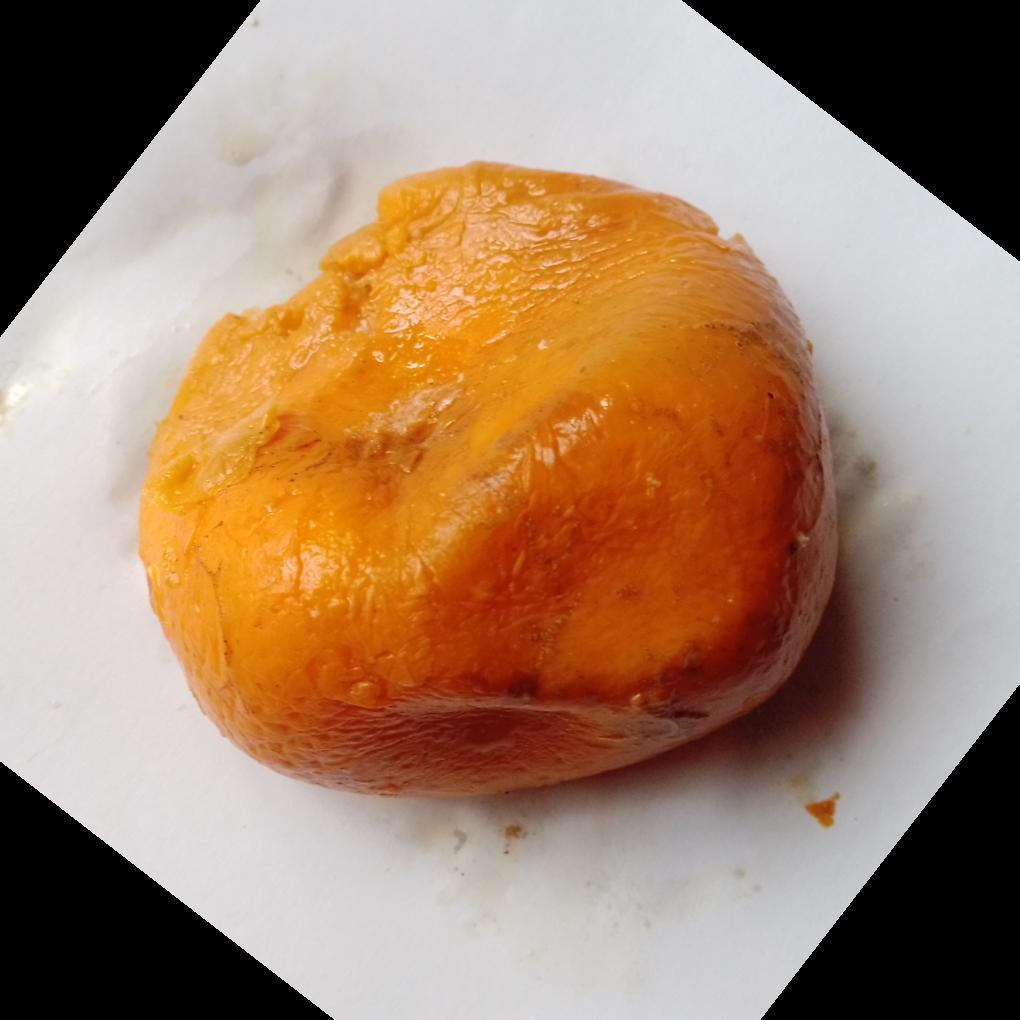FreshOrange: (134, 162, 841, 803)
